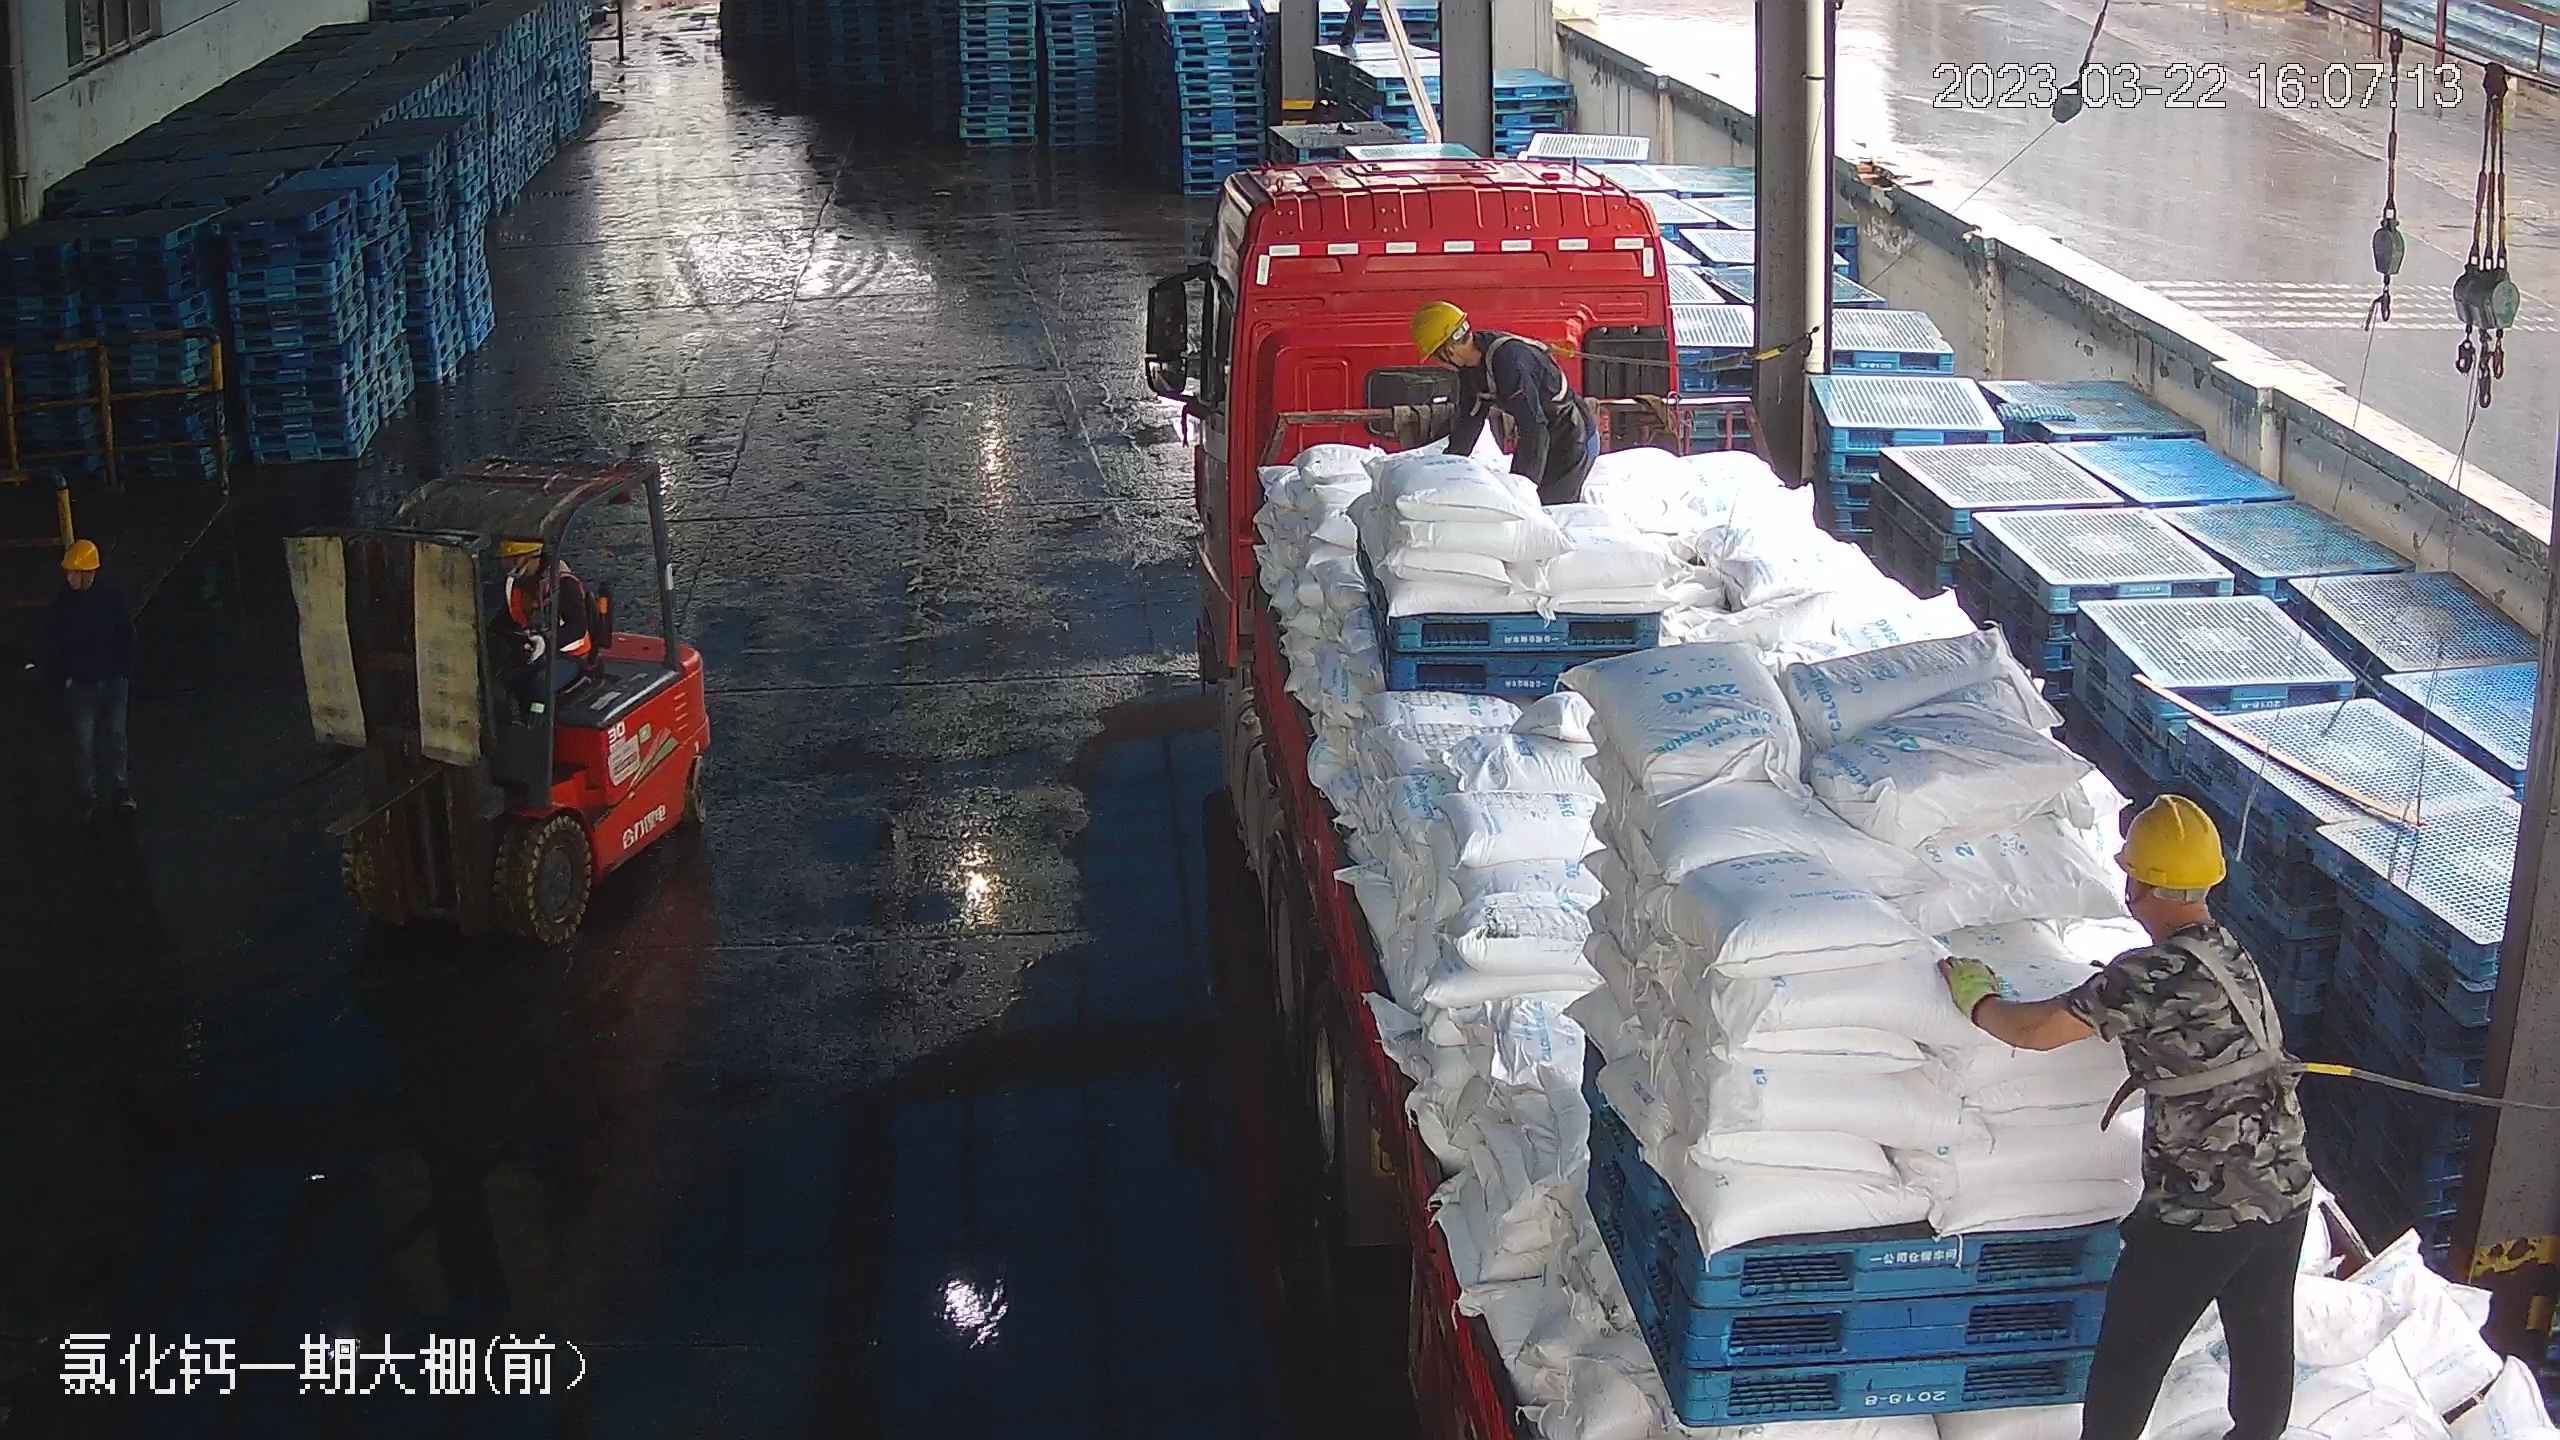belt: (2128, 927, 2349, 1128), (1480, 323, 1574, 400)
head: (2073, 787, 2283, 1062), (1414, 297, 1545, 394), (45, 538, 130, 626)
helmet: (2106, 789, 2226, 889), (1408, 297, 1470, 360), (59, 538, 102, 570)
people: (1942, 792, 2315, 1440), (1407, 295, 1598, 509), (36, 537, 144, 813)
truck: (1162, 139, 2513, 1436)
